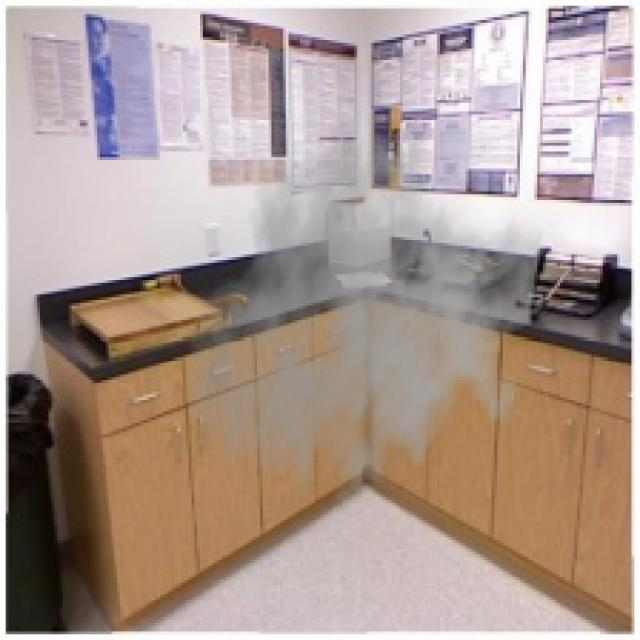smoke: (183, 117, 546, 534)
